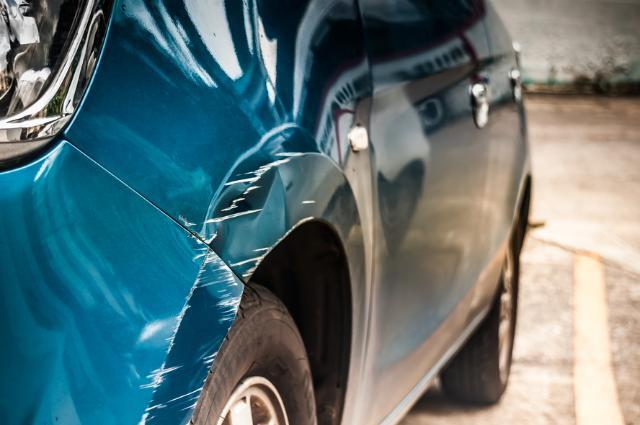Fender: (139, 112, 341, 425)
